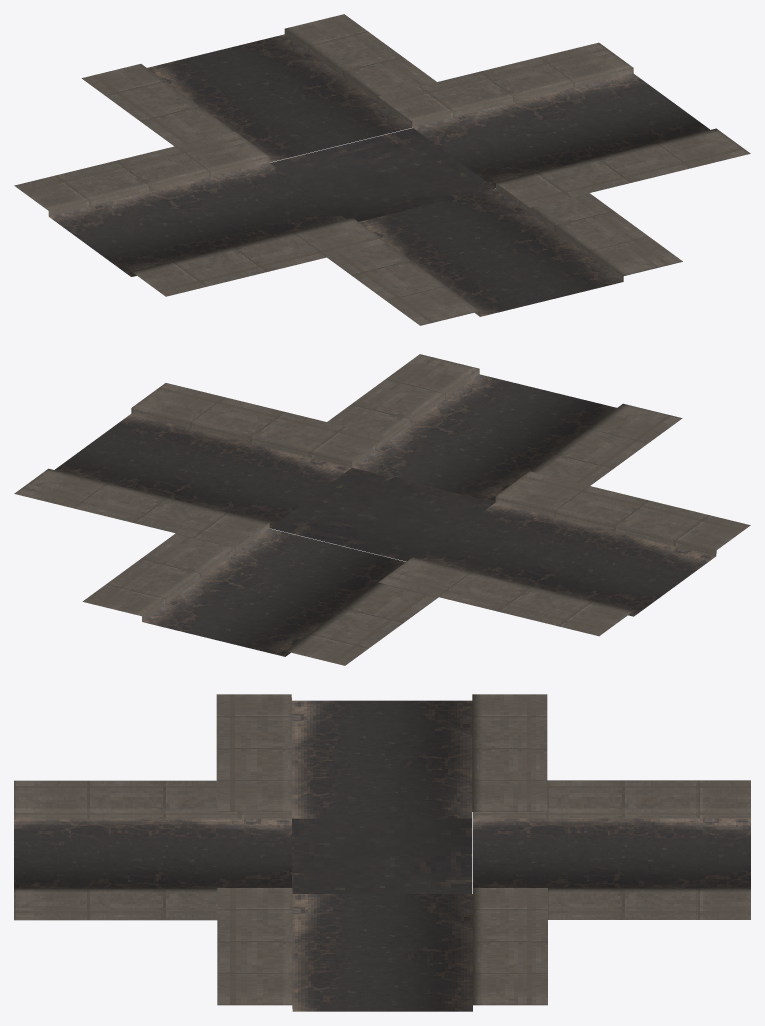
The model's file is Crossroad_section.glb.
3 renders of one model, top to bottom at view 1: azimuth 30°, elevation 25°; view 2: azimuth 150°, elevation 25°; view 3: azimuth 270°, elevation 25°, orthographic. The views are drawn at different scales.
Visible parts, largest first — view 1: Plane_Material.001_0.003, Plane_Material.001_0.002, Plane, Plane_Material.001_0.001; view 2: Plane_Material.001_0.003, Plane_Material.001_0.002, Plane_Material.001_0.001, Plane; view 3: Plane_Material.001_0.003, Plane_Material.001_0.002, Plane, Plane_Material.001_0.001.
Boxes of the visible parts, left/top/right/bottom form: Plane_Material.001_0.003: left=14, top=128, right=495, bottom=296; Plane_Material.001_0.002: left=378, top=42, right=750, bottom=207; Plane: left=327, top=183, right=682, bottom=325; Plane_Material.001_0.001: left=81, top=14, right=436, bottom=162; Plane_Material.001_0.003: left=270, top=468, right=750, bottom=636; Plane_Material.001_0.002: left=14, top=383, right=386, bottom=547; Plane_Material.001_0.001: left=82, top=523, right=438, bottom=665; Plane: left=327, top=354, right=682, bottom=510; Plane_Material.001_0.003: left=216, top=694, right=547, bottom=893; Plane_Material.001_0.002: left=217, top=888, right=547, bottom=1011; Plane: left=14, top=780, right=291, bottom=920; Plane_Material.001_0.001: left=473, top=780, right=750, bottom=919.
Size of the model in its own units: 10.48 by 0.1033 by 10.49.
Materials: 1 (1 with a texture image).
